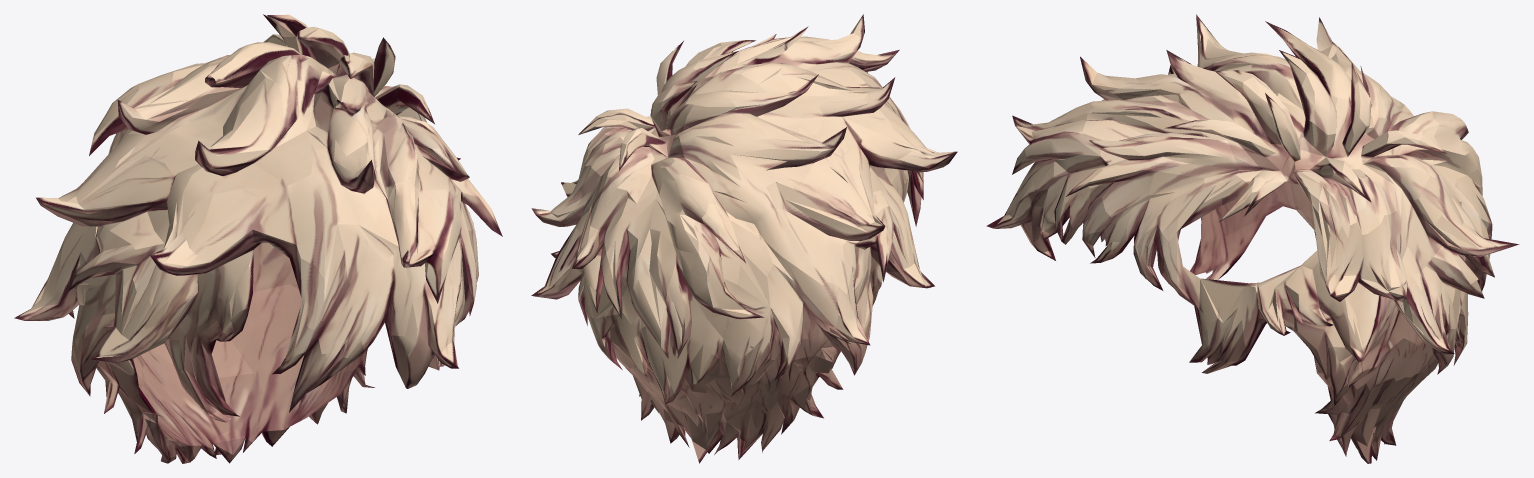
Rendered from fennal_f-court.glb.
3 renders of one model, left to right at view 1: azimuth 30°, elevation 25°; view 2: azimuth 150°, elevation 25°; view 3: azimuth 270°, elevation 25°, orthographic. The views are drawn at different scales.
Visible parts, largest first — view 1: geometry_0; view 2: geometry_0; view 3: geometry_0.
Boxes of the visible parts, <box> form: geometry_0: <box>14,14,502,463</box>; geometry_0: <box>531,14,957,463</box>; geometry_0: <box>986,14,1519,463</box>.
Size of the model in its own units: 1.5 by 1.58 by 1.9.
Materials: 1 (1 with a texture image).
